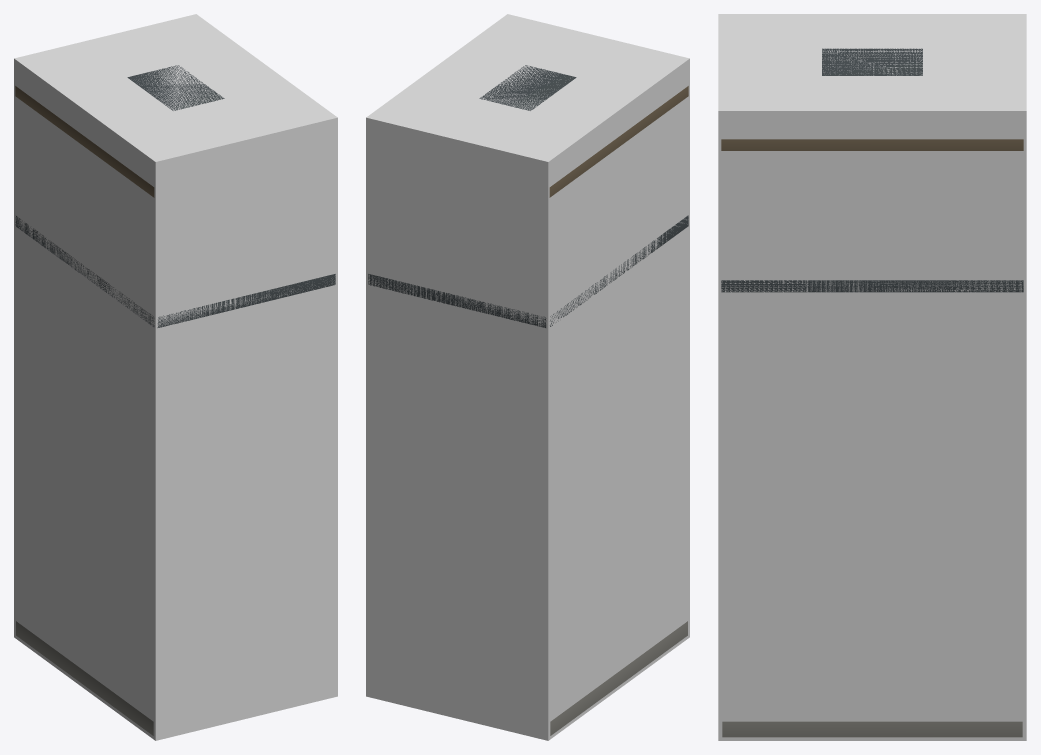
The model's file is m2_guard_post.glb.
The picture shows the model from 3 angles, left to right: view 1: azimuth 30°, elevation 25°; view 2: azimuth 150°, elevation 25°; view 3: azimuth 270°, elevation 25°; orthographic projection. The views are drawn at different scales.
Visible parts, largest first — view 1: COL_m2_guard_post, m2_guard_post_nc7_alloy, m2_guard_post_nc7_concrete, m2_guard_post_nc7_coating; view 2: COL_m2_guard_post, m2_guard_post_nc7_alloy, m2_guard_post_nc7_concrete, m2_guard_post_nc7_coating; view 3: COL_m2_guard_post, m2_guard_post_nc7_alloy, m2_guard_post_nc7_concrete, m2_guard_post_nc7_coating.
Boxes of the visible parts, left/top/right/bottom form: COL_m2_guard_post: left=14, top=14, right=337, bottom=740; m2_guard_post_nc7_alloy: left=15, top=65, right=335, bottom=327; m2_guard_post_nc7_concrete: left=16, top=621, right=153, bottom=735; m2_guard_post_nc7_coating: left=15, top=86, right=154, bottom=197; COL_m2_guard_post: left=366, top=14, right=689, bottom=740; m2_guard_post_nc7_alloy: left=368, top=65, right=688, bottom=327; m2_guard_post_nc7_concrete: left=550, top=621, right=687, bottom=735; m2_guard_post_nc7_coating: left=549, top=86, right=688, bottom=197; COL_m2_guard_post: left=718, top=14, right=1026, bottom=740; m2_guard_post_nc7_alloy: left=721, top=48, right=1023, bottom=292; m2_guard_post_nc7_concrete: left=722, top=721, right=1022, bottom=737; m2_guard_post_nc7_coating: left=721, top=139, right=1023, bottom=150.
Bounding box in the file's own units: 2.9 × 8.8 × 3.9.
